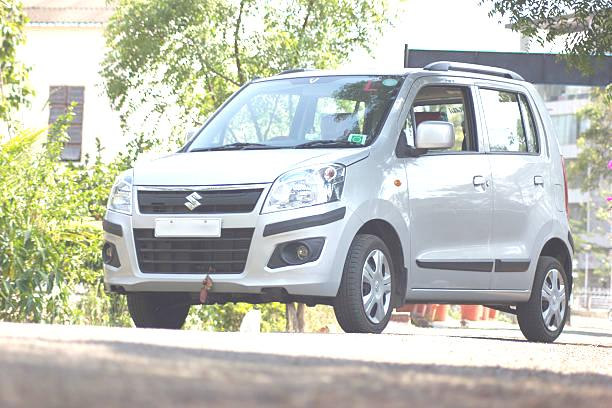suzuki: (181, 189, 206, 216)
